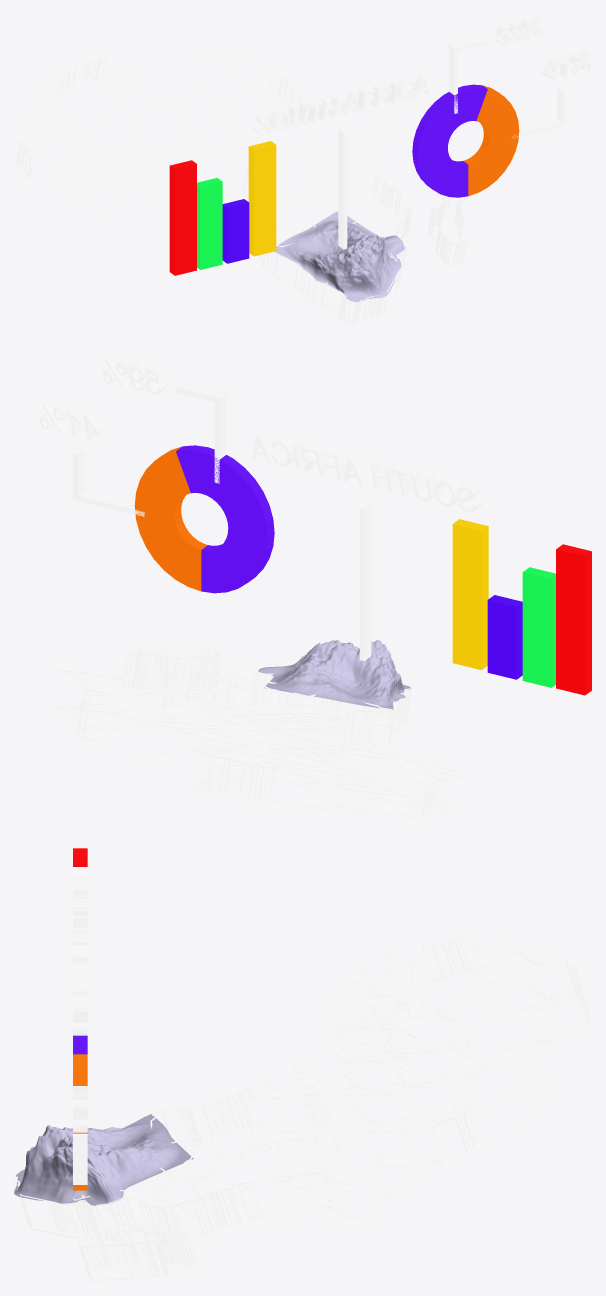
Rendered from african_analytics.glb.
3 renders of one model, top to bottom at view 1: azimuth 30°, elevation 25°; view 2: azimuth 150°, elevation 25°; view 3: azimuth 270°, elevation 25°, orthographic. The views are drawn at different scales.
Visible parts, largest first — view 1: analytics, Cube, topography; view 2: analytics, Cube, topography; view 3: Cube, topography, analytics.
Part boxes in pixels (left/top/right/bottom): analytics: left=169, top=14, right=591, bottom=275; Cube: left=14, top=47, right=466, bottom=324; topography: left=274, top=211, right=405, bottom=301; analytics: left=39, top=353, right=591, bottom=695; Cube: left=14, top=648, right=468, bottom=819; topography: left=258, top=639, right=410, bottom=709; Cube: left=14, top=935, right=591, bottom=1281; topography: left=14, top=1114, right=193, bottom=1205; analytics: left=73, top=848, right=87, bottom=1190.
Size of the model in its own units: 8.63 by 4.57 by 7.11.
